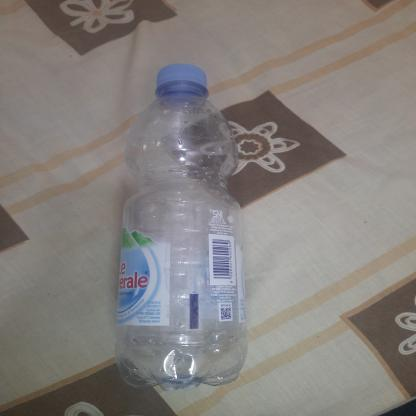bottle: (108, 59, 251, 390)
